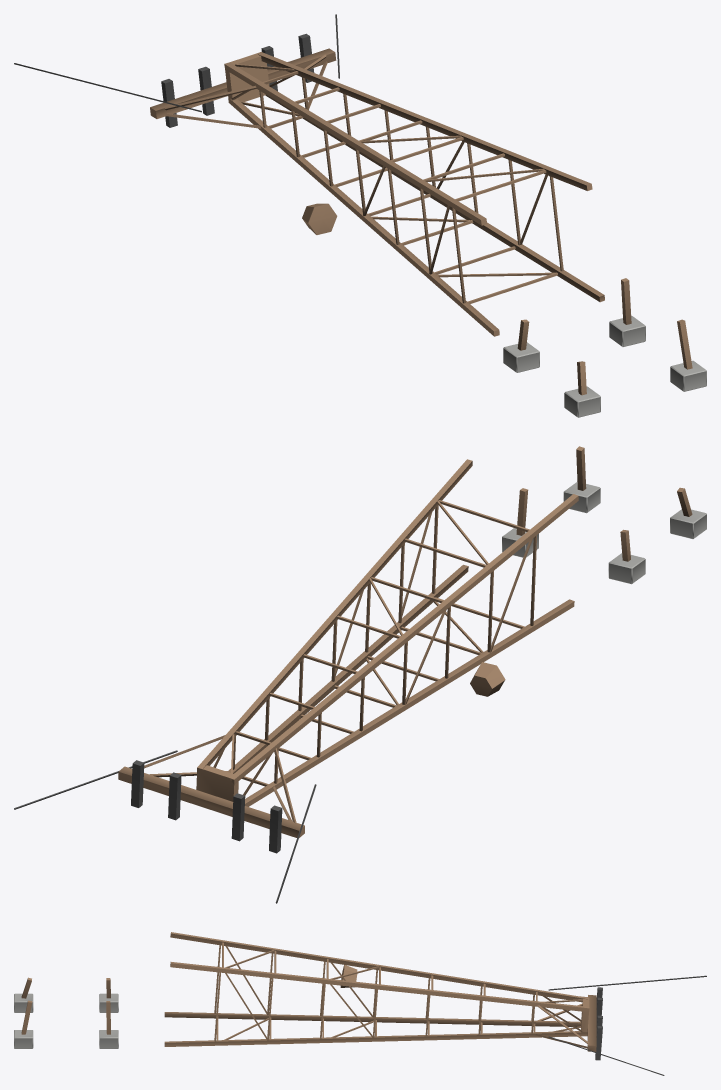
The model's file is ropeway_pylon_down_lod1.glb.
3 renders of one model, top to bottom at view 1: azimuth 30°, elevation 25°; view 2: azimuth 150°, elevation 25°; view 3: azimuth 270°, elevation 25°, orthographic. The views are drawn at different scales.
Parts seen in each view (by area): view 1: static; view 2: static; view 3: static.
Boxes of the visible parts, x1=… form: static: x1=14, y1=14, x2=706, y2=417; static: x1=14, y1=446, x2=706, y2=903; static: x1=14, y1=932, x2=706, y2=1075.
Size of the model in its own units: 11.05 by 4.99 by 32.46.
